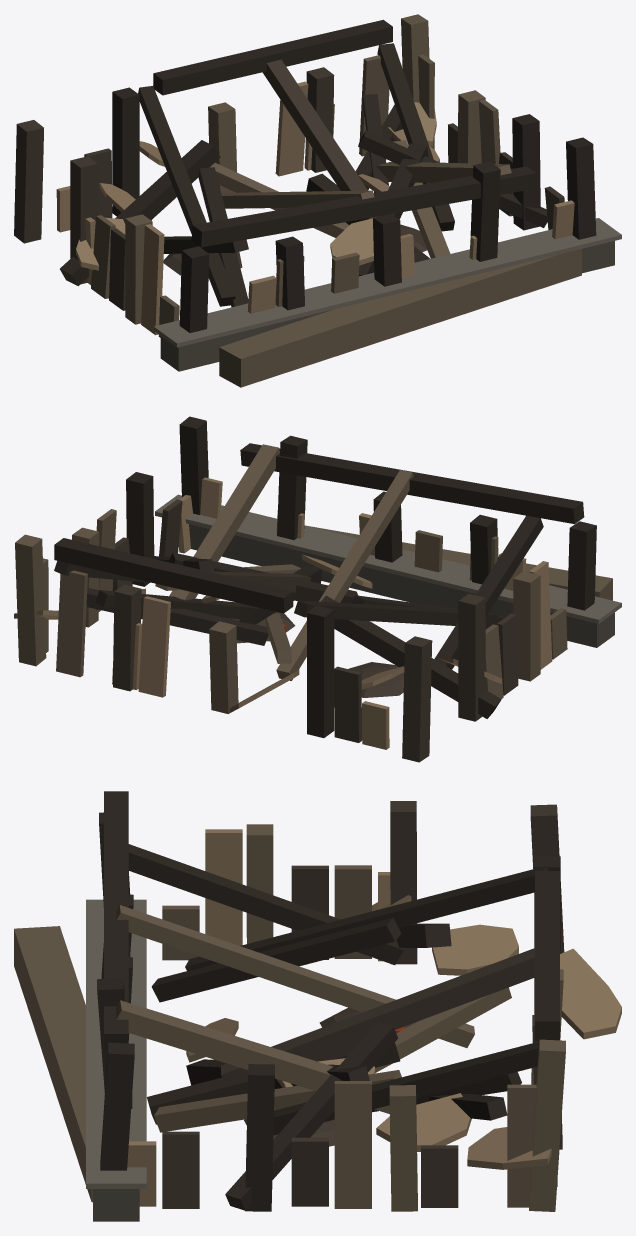
Rendered from VerHut06a.glb.
The picture shows the model from 3 angles, top to bottom: view 1: azimuth 30°, elevation 25°; view 2: azimuth 150°, elevation 25°; view 3: azimuth 270°, elevation 25°; orthographic projection. The views are drawn at different scales.
Visible parts, largest first — view 1: VerHut06a_sill; view 2: VerHut06a_sill; view 3: VerHut06a_sill.
Boxes of the visible parts, x1,y1,x2,y2 form: VerHut06a_sill: [14, 14, 621, 387]; VerHut06a_sill: [14, 416, 621, 762]; VerHut06a_sill: [14, 791, 621, 1221].
Size of the model in its own units: 4.95 by 1.4 by 4.48.
